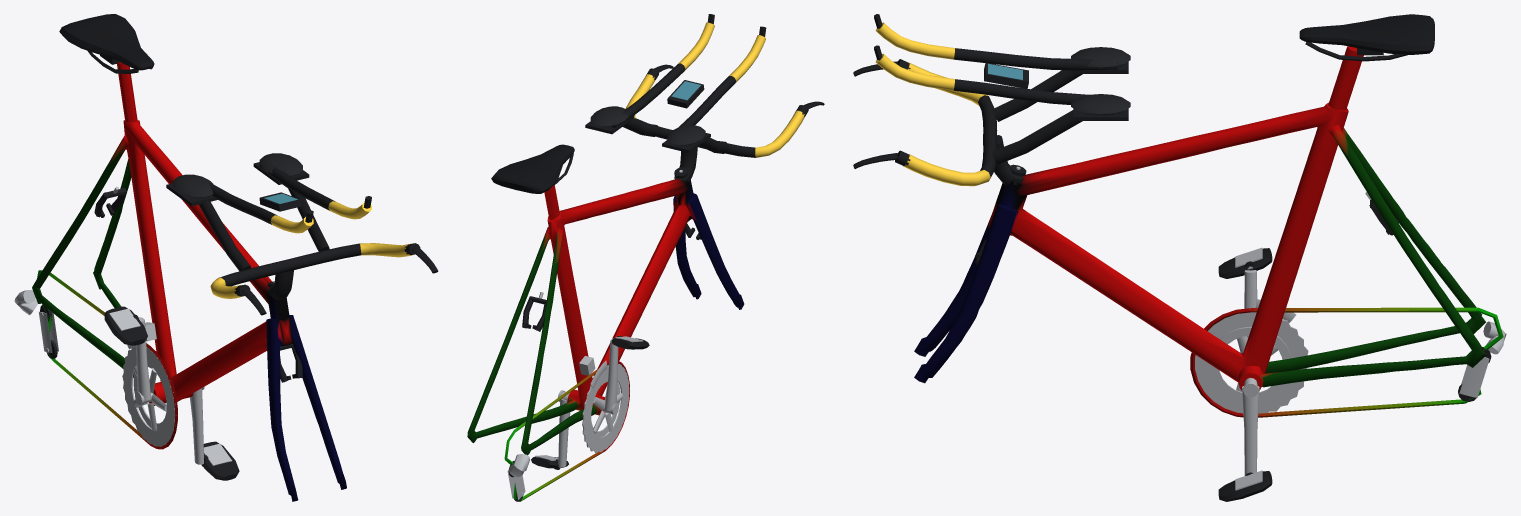
Rendered from lowpro.glb.
The picture shows the model from 3 angles, left to right: view 1: azimuth 30°, elevation 25°; view 2: azimuth 150°, elevation 25°; view 3: azimuth 270°, elevation 25°; orthographic projection. The views are drawn at different scales.
Visible parts, largest first — view 1: frame, cockpit, crankset, saddle, opt_derailleur, pedal_R, pedal_L, opt_brakes_rim; view 2: frame, cockpit, crankset, saddle, opt_derailleur, opt_brakes_rim, pedal_R; view 3: frame, cockpit, crankset, saddle, opt_derailleur, pedal_L, pedal_R.
Part boxes in pixels (<box>): frame: <box>32,62,346,501</box>; cockpit: <box>166,153,438,315</box>; crankset: <box>122,317,204,464</box>; saddle: <box>59,14,154,73</box>; opt_derailleur: <box>14,290,156,358</box>; pedal_R: <box>104,306,147,345</box>; pedal_L: <box>201,441,239,480</box>; opt_brakes_rim: <box>94,186,302,382</box>; frame: <box>467,179,744,501</box>; cockpit: <box>585,14,824,182</box>; crankset: <box>558,338,629,467</box>; saddle: <box>491,144,574,193</box>; opt_derailleur: <box>507,356,607,501</box>; opt_brakes_rim: <box>522,219,701,331</box>; pedal_R: <box>611,336,649,349</box>; frame: <box>914,46,1503,417</box>; cockpit: <box>853,14,1130,186</box>; crankset: <box>1195,270,1308,475</box>; saddle: <box>1299,14,1434,61</box>; opt_derailleur: <box>1255,299,1506,401</box>; pedal_L: <box>1218,470,1272,501</box>; pedal_R: <box>1218,247,1272,278</box>.
Size of the model in its own units: 0.415 by 0.8869 by 1.18.
